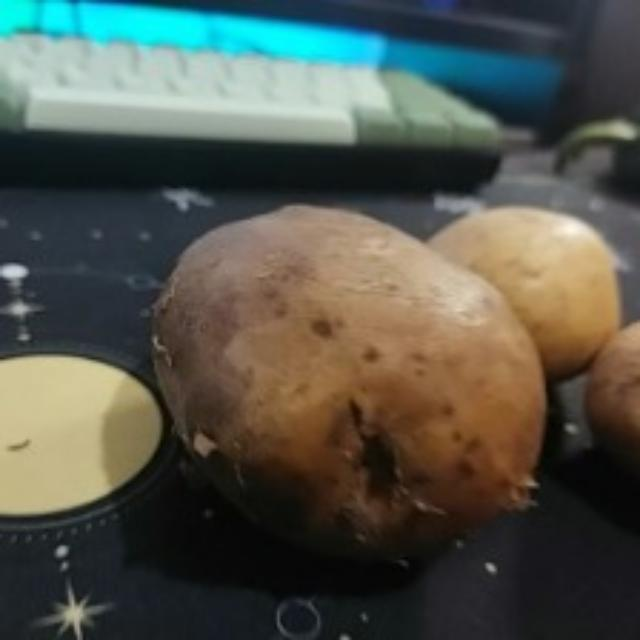Damaged potato: (150, 206, 544, 550)
Potato: (422, 204, 628, 386)
